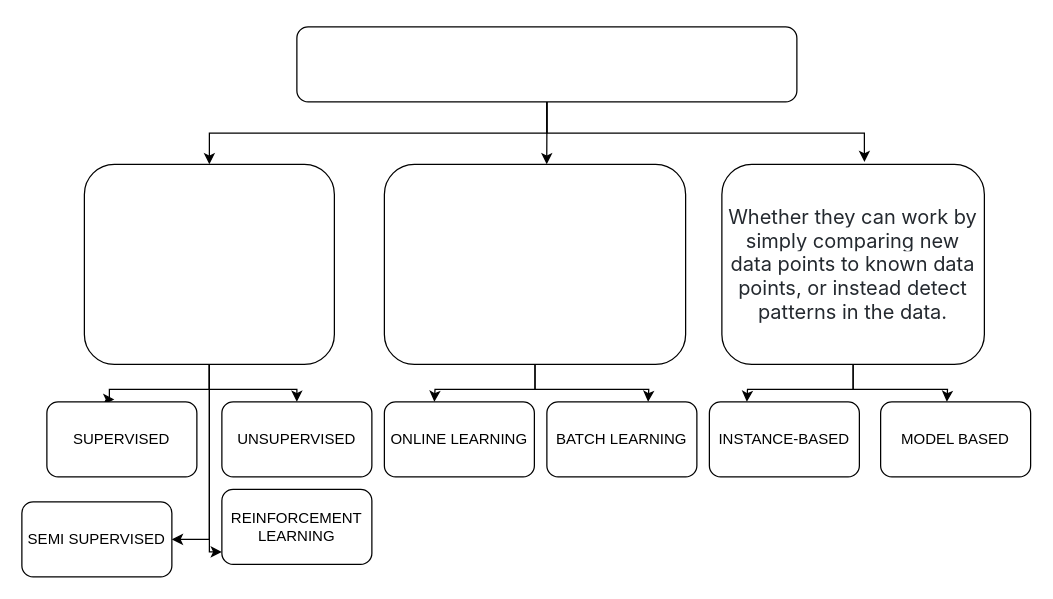
Some shapes in this 1053 by 599 pixel diagram are drawn without their labels. Here are the shapes that lost their labels. From the top down, the centre of each, then its label:
point 546,64: Types of Machine Learning Systems
point 208,263: Whether they are trained using supervision or not
point 534,263: Whether they can learn incrementally or on the fly
